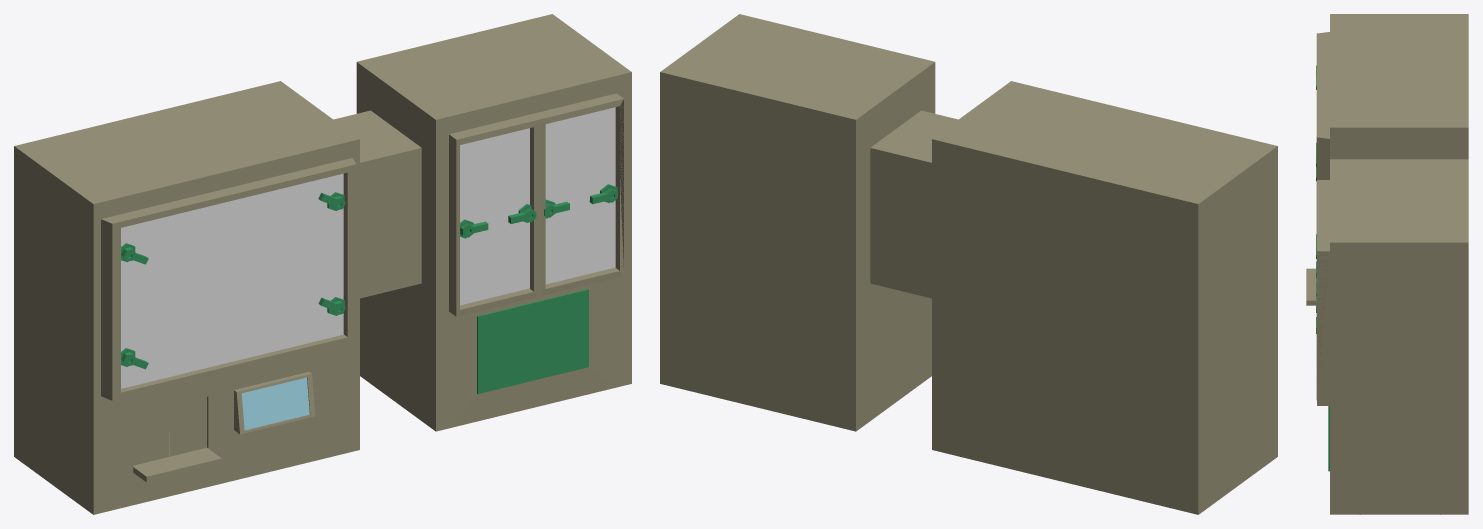
File: Flaschenautomat_joint.fbx
3 views of the same model, side by side, from view 1: azimuth 30°, elevation 25°; view 2: azimuth 150°, elevation 25°; view 3: azimuth 270°, elevation 25° (orthographic). The views are drawn at different scales.
Visible parts, largest first — view 1: Automat; view 2: Automat; view 3: Automat.
Part boxes in pixels (x1,y1,x2,y2): Automat: [14, 14, 631, 514]; Automat: [660, 14, 1277, 514]; Automat: [1306, 14, 1468, 514].
Size of the model in its own units: 1566 by 902 by 468.
